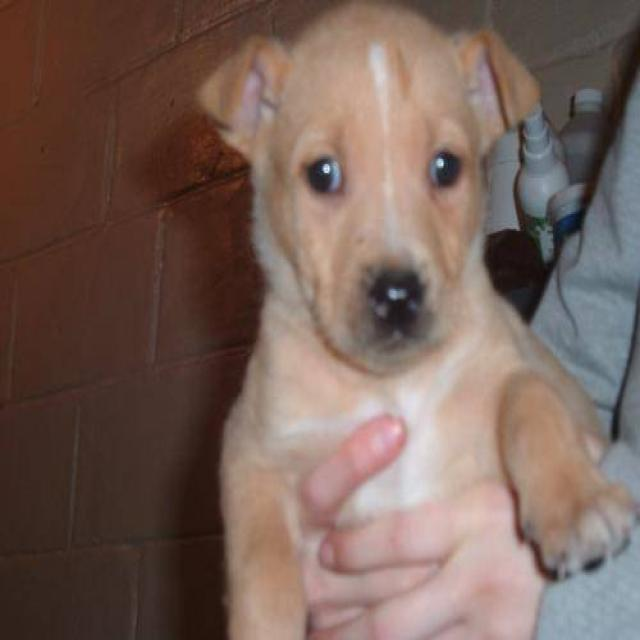dog: (196, 0, 639, 638)
